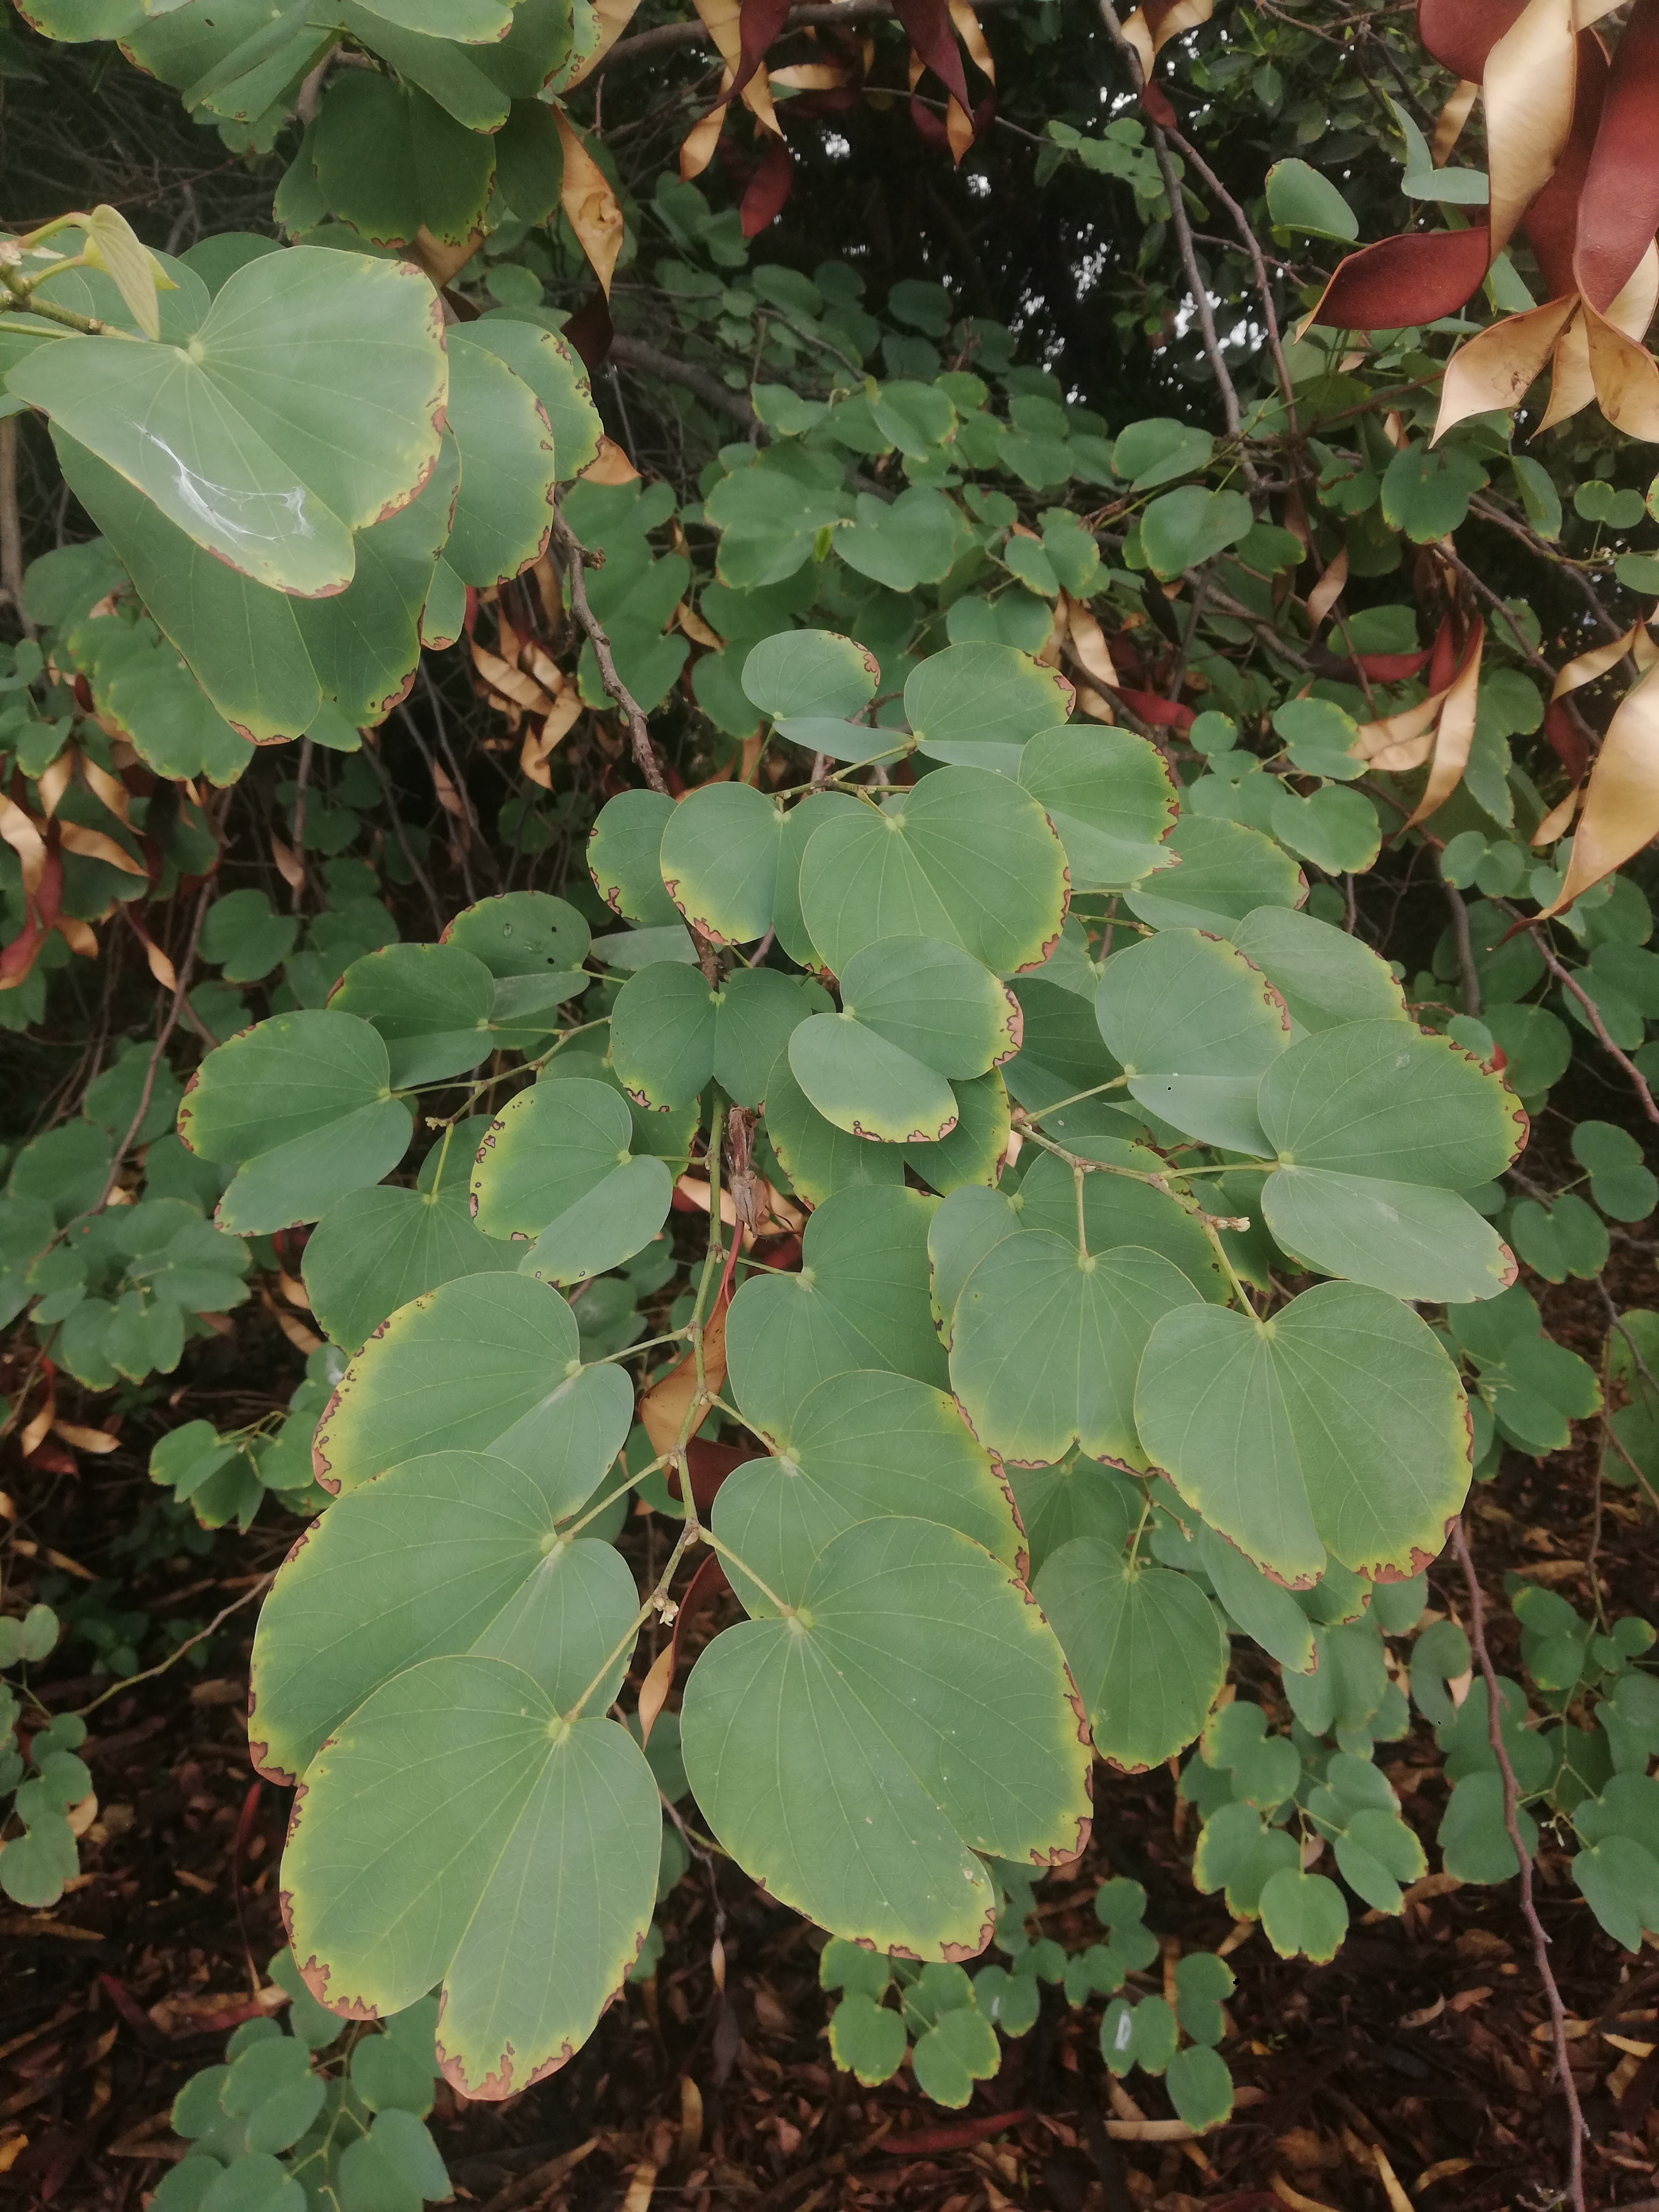nothealthy: (666, 1521, 1119, 1975), (256, 1648, 687, 2121), (7, 237, 453, 604), (242, 1440, 662, 1810), (1119, 1277, 1500, 1594), (699, 1360, 1044, 1658), (298, 1273, 660, 1555), (1253, 1012, 1540, 1310), (795, 749, 1073, 1012), (941, 1224, 1227, 1475), (171, 991, 432, 1245), (465, 1066, 669, 1289)
